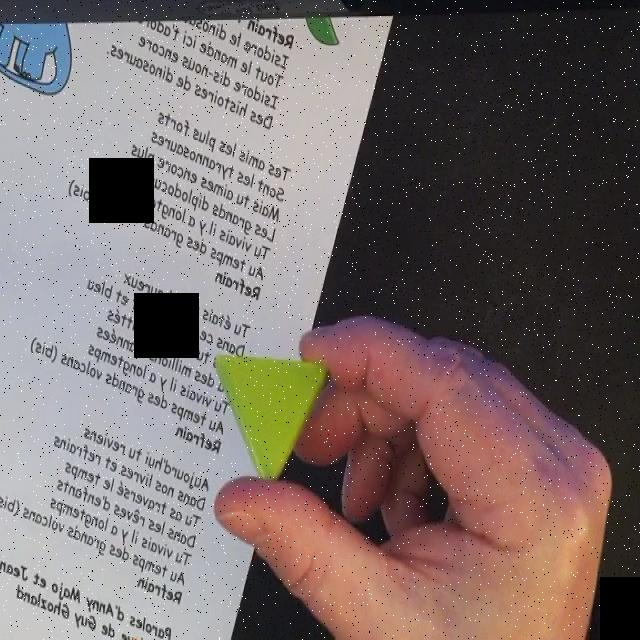triangle: (213, 352, 329, 494)
